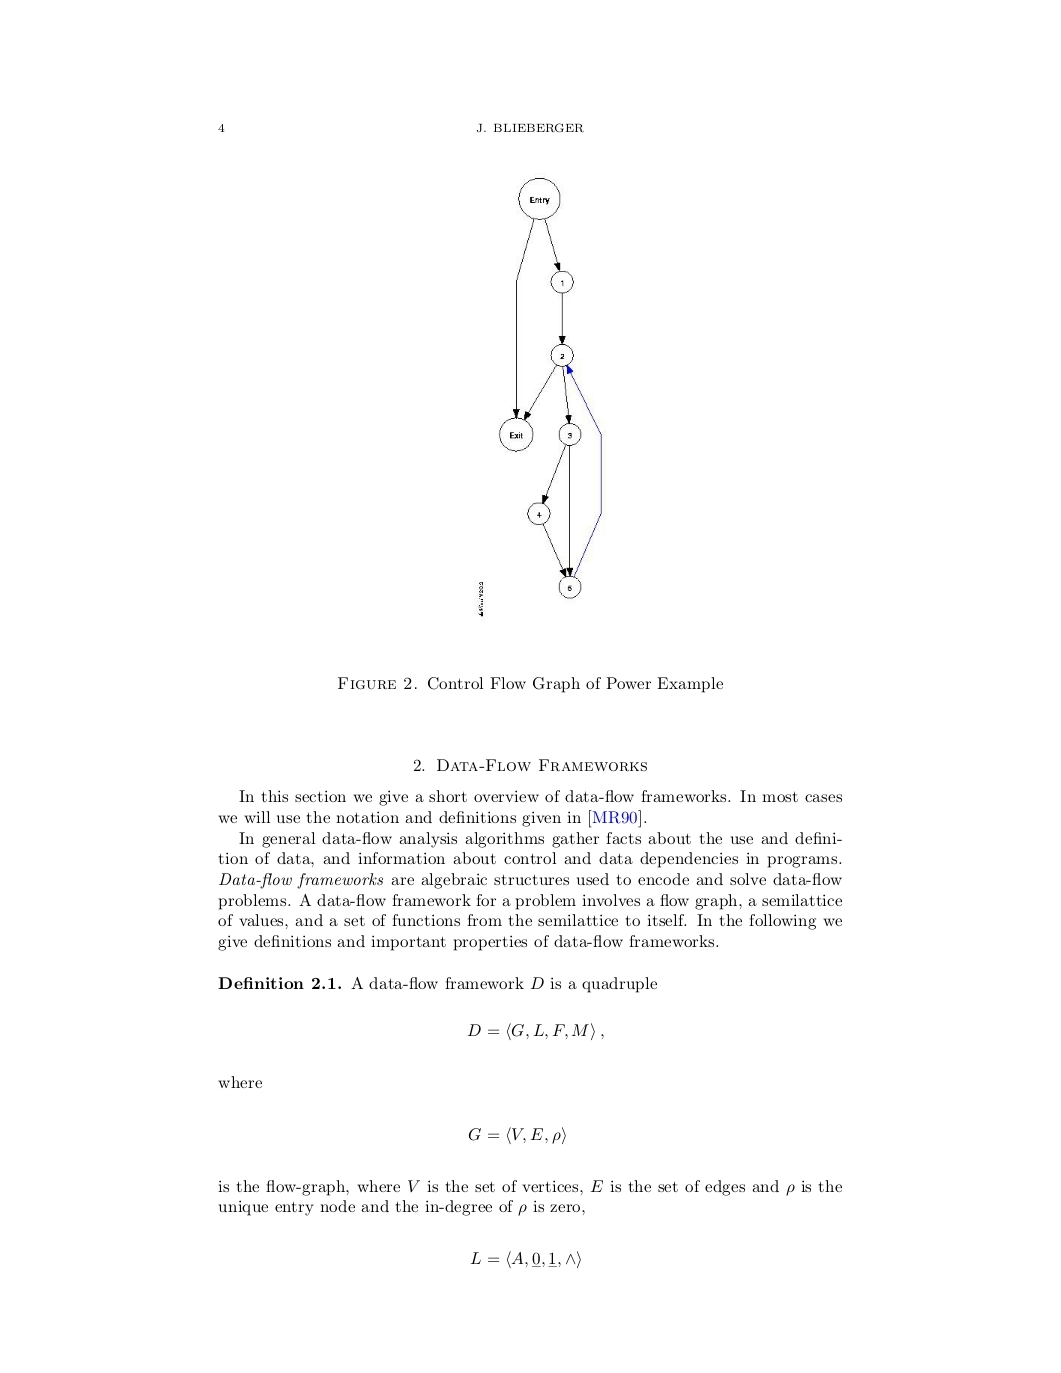figure: (477, 177, 605, 602)
formula: (467, 1022, 603, 1041), (470, 1250, 580, 1269), (468, 1126, 565, 1145)
